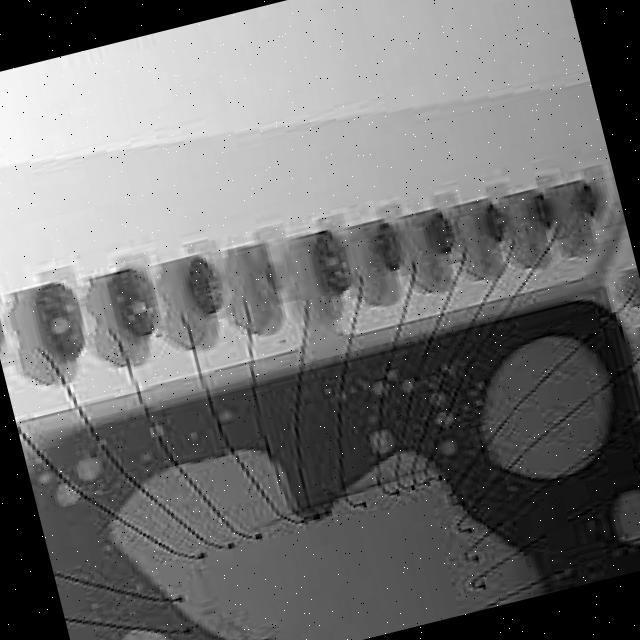chip: (15, 266, 640, 640)
void: (99, 440, 543, 640), (479, 329, 615, 480), (607, 482, 640, 549), (73, 452, 108, 483), (141, 417, 174, 444), (364, 427, 397, 454), (53, 481, 82, 505), (435, 433, 461, 458), (369, 377, 390, 398), (433, 409, 455, 427), (426, 390, 448, 407), (397, 376, 414, 394), (385, 365, 402, 383)
